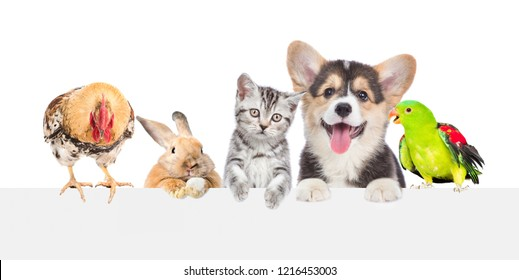cat: (224, 75, 295, 208)
dog: (290, 43, 397, 198)
rabbit: (139, 103, 209, 201)
